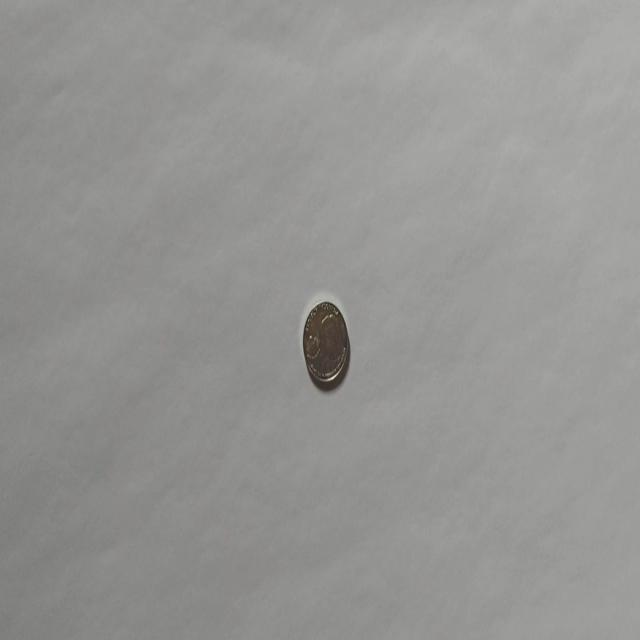seratus rupiah: (302, 298, 350, 386)
